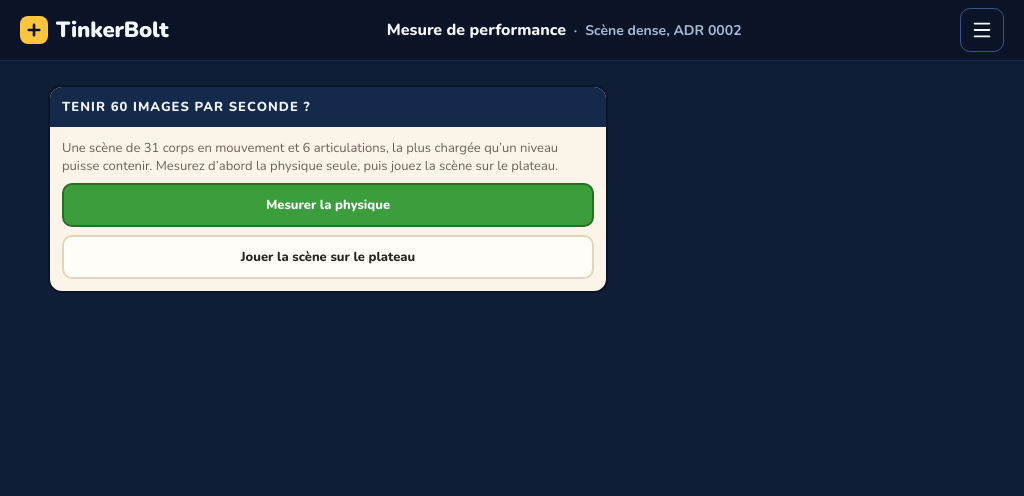
Test case: page de mesure de performance (/bench, ADR 0002) › mesure chaque pas de physique avec l’horloge injectée et rend un verdict lisible
The image size is (1024, 496).
Click the button "Mesurer la physique" at {"x": 328, "y": 205}, box [62,183,594,227]
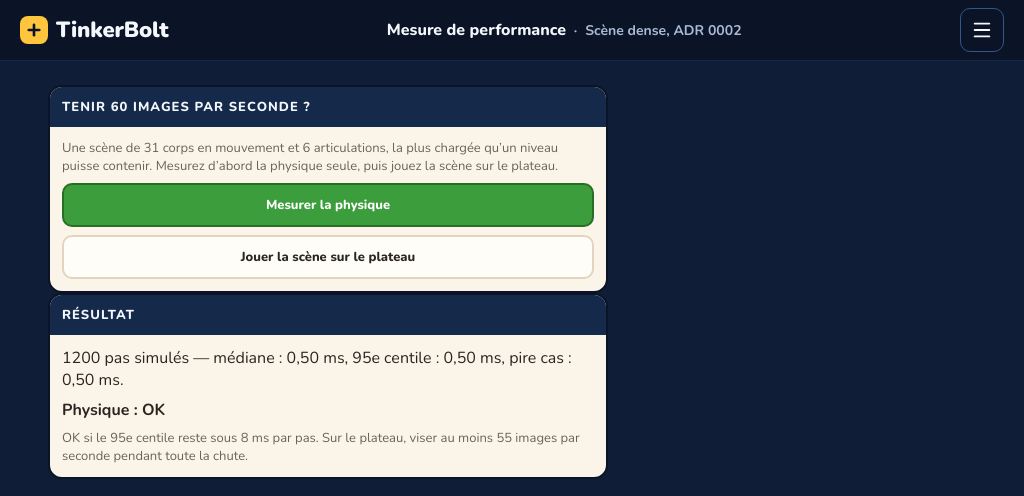
Now the text "95e centile : 0,50 ms" is shown, box [62,347,594,391]
Now the text "Physique : OK" is shown, box [62,399,165,421]
